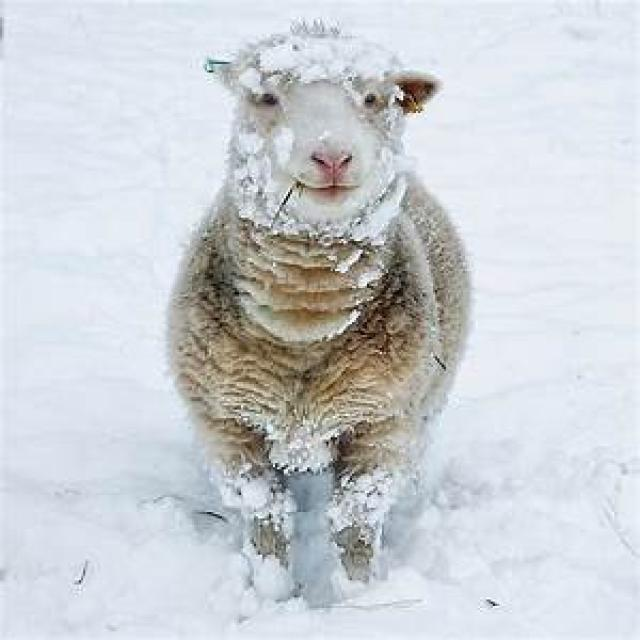sheep: (162, 15, 472, 608)
